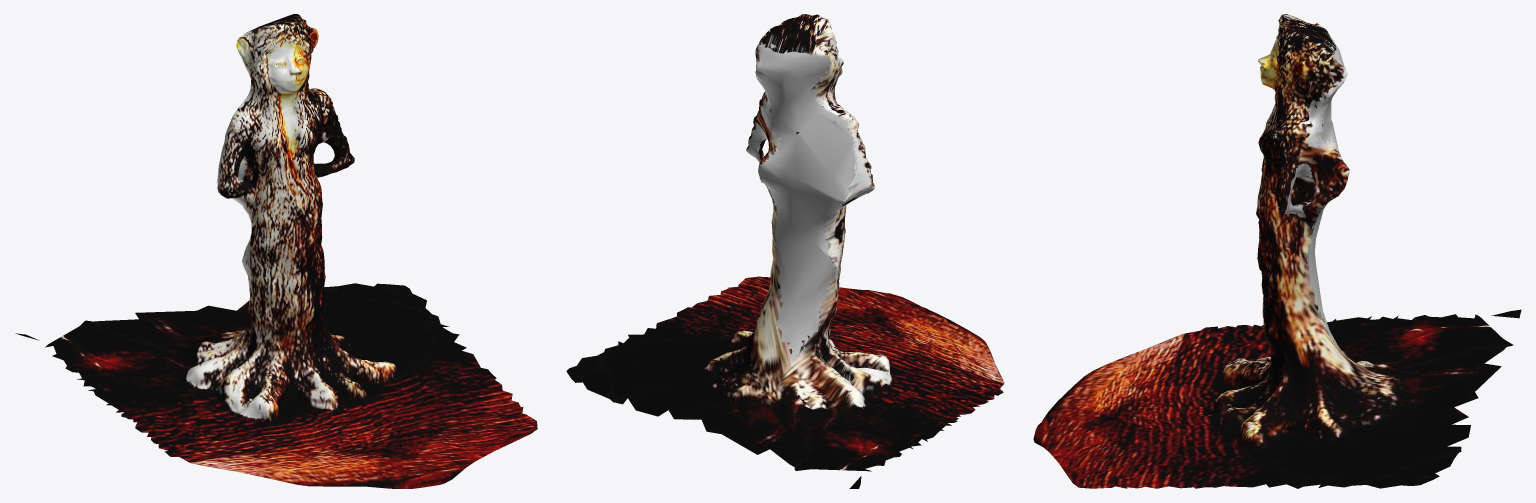
The model's file is boomVrouw.glb.
3 renders of one model, left to right at view 1: azimuth 30°, elevation 25°; view 2: azimuth 150°, elevation 25°; view 3: azimuth 270°, elevation 25°, orthographic. The views are drawn at different scales.
Visible parts, largest first — view 1: boomVrouw; view 2: boomVrouw; view 3: boomVrouw.
Boxes of the visible parts, x1=… form: boomVrouw: x1=15, y1=14, x2=537, y2=488; boomVrouw: x1=566, y1=14, x2=1004, y2=488; boomVrouw: x1=1033, y1=14, x2=1521, y2=488.
Bounding box in the file's own units: 19.11 × 20.28 × 22.3.
2 materials, 2 textured.
